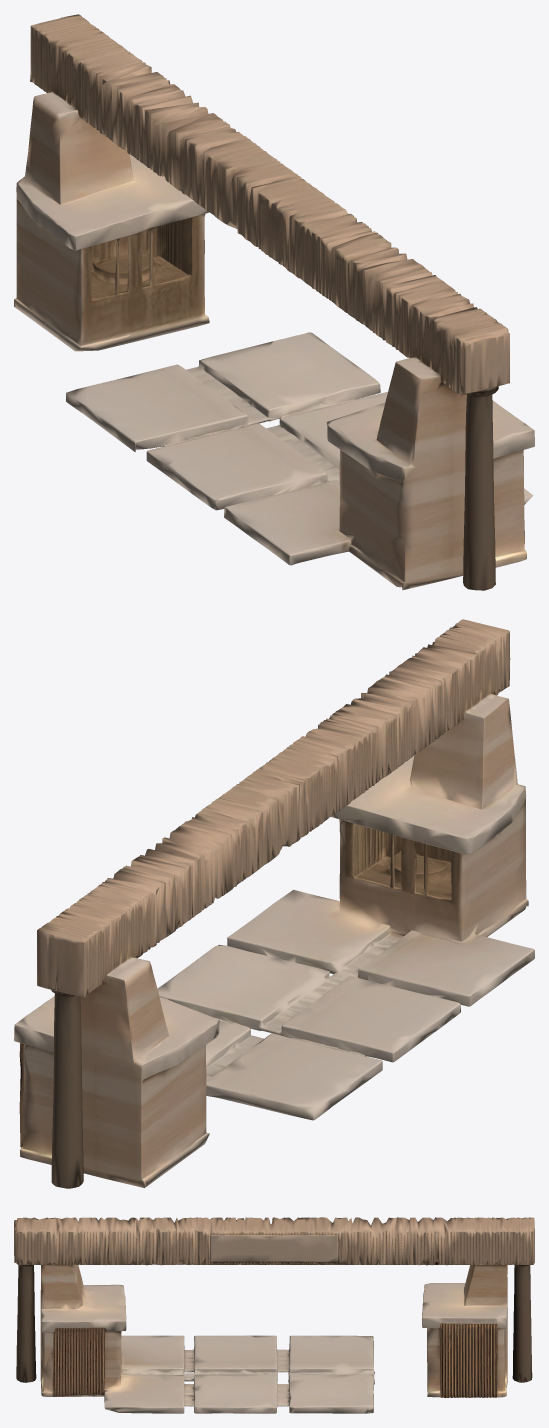
The model's file is gate.glb.
3 views of the same model, one above another, from view 1: azimuth 30°, elevation 25°; view 2: azimuth 150°, elevation 25°; view 3: azimuth 270°, elevation 25° (orthographic). The views are drawn at different scales.
Parts seen in each view (by area): view 1: tripo_node_05dd27c8-9ec6-4ac9-aeec-aca1a1bbee85; view 2: tripo_node_05dd27c8-9ec6-4ac9-aeec-aca1a1bbee85; view 3: tripo_node_05dd27c8-9ec6-4ac9-aeec-aca1a1bbee85.
Part boxes in pixels (x1,y1,x2,y2): tripo_node_05dd27c8-9ec6-4ac9-aeec-aca1a1bbee85: (14, 14, 534, 590); tripo_node_05dd27c8-9ec6-4ac9-aeec-aca1a1bbee85: (14, 619, 534, 1188); tripo_node_05dd27c8-9ec6-4ac9-aeec-aca1a1bbee85: (14, 1217, 534, 1413).
Bounding box in the file's own units: 0.3278 × 0.3265 × 1.
1 material, 1 textured.
